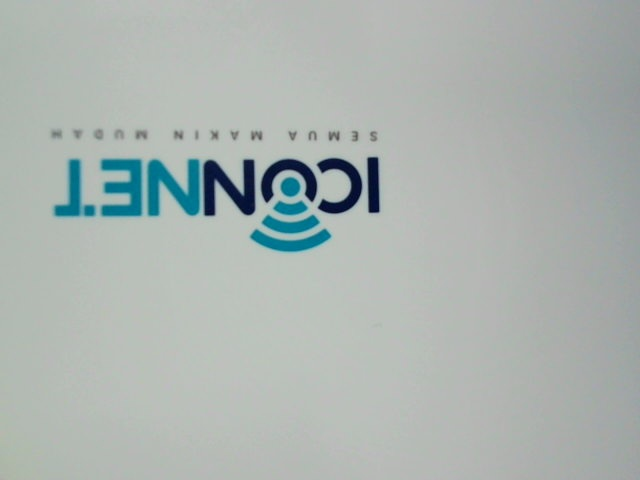BM_ICONNET: (32, 109, 406, 269)
